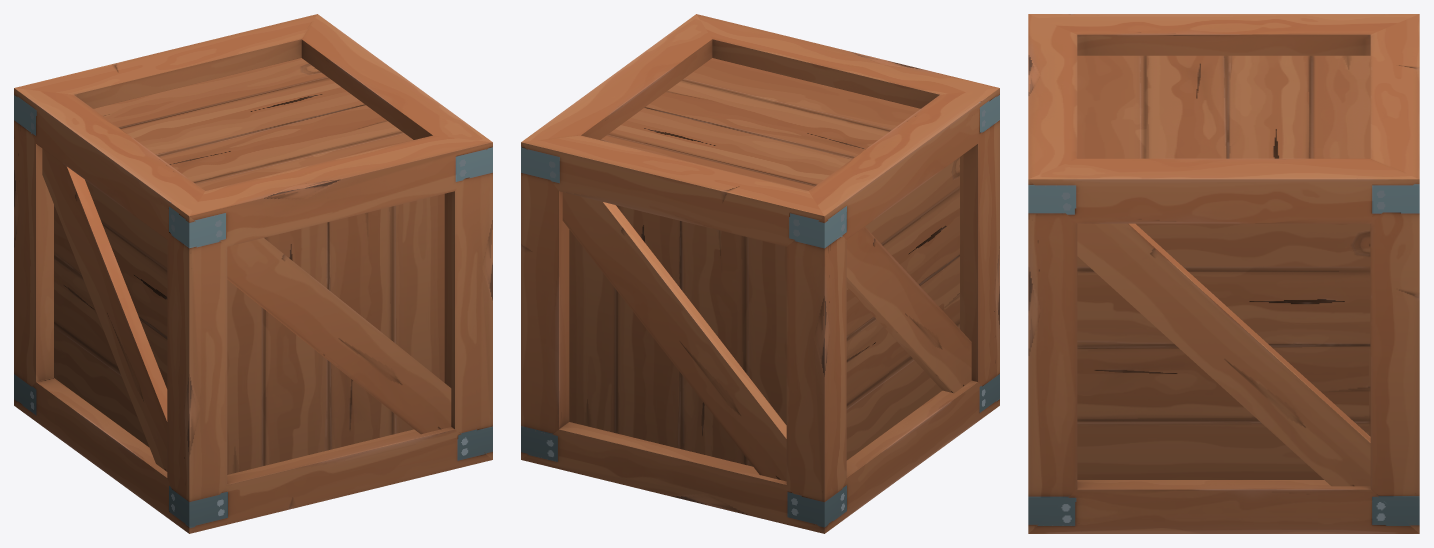
File: pushy_crate.glb
3 views of the same model, side by side, from view 1: azimuth 30°, elevation 25°; view 2: azimuth 150°, elevation 25°; view 3: azimuth 270°, elevation 25° (orthographic). The views are drawn at different scales.
Visible parts, largest first — view 1: pushy_crate_ref; view 2: pushy_crate_ref; view 3: pushy_crate_ref.
Boxes of the visible parts, <box> form: pushy_crate_ref: <box>14,14,492,533</box>; pushy_crate_ref: <box>521,14,999,533</box>; pushy_crate_ref: <box>1028,14,1419,533</box>.
Size of the model in its own units: 1 by 1 by 1.
1 material, 1 textured.
